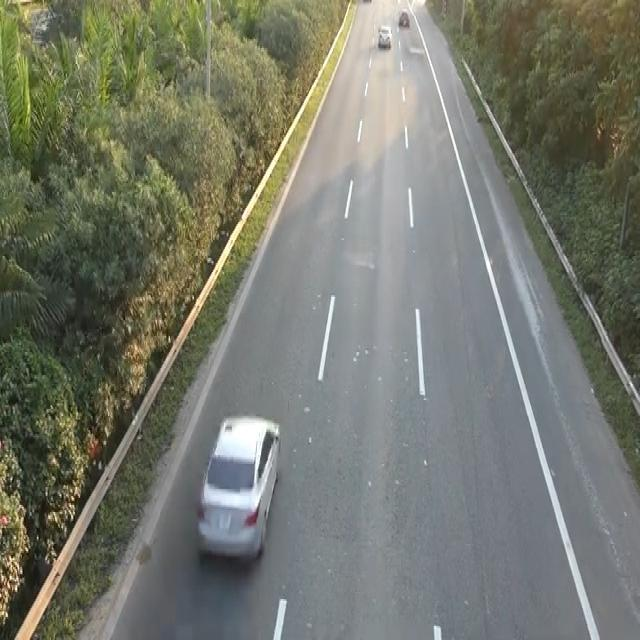bus: (193, 407, 283, 565)
